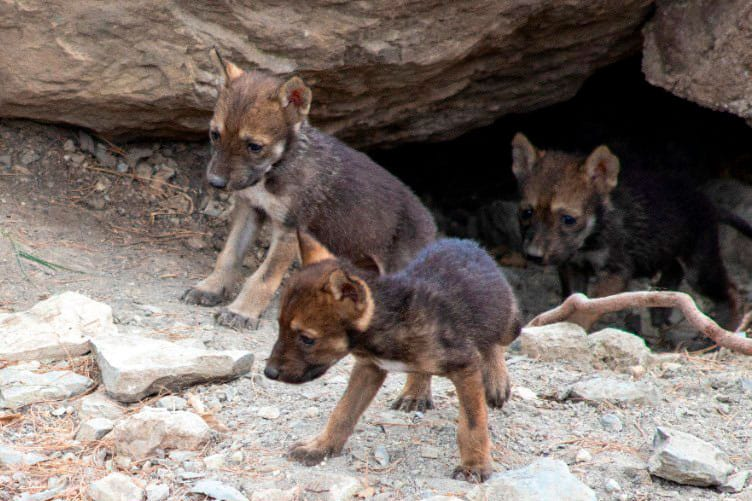Lobo: (165, 31, 463, 263), (243, 236, 545, 459), (511, 102, 631, 287)
